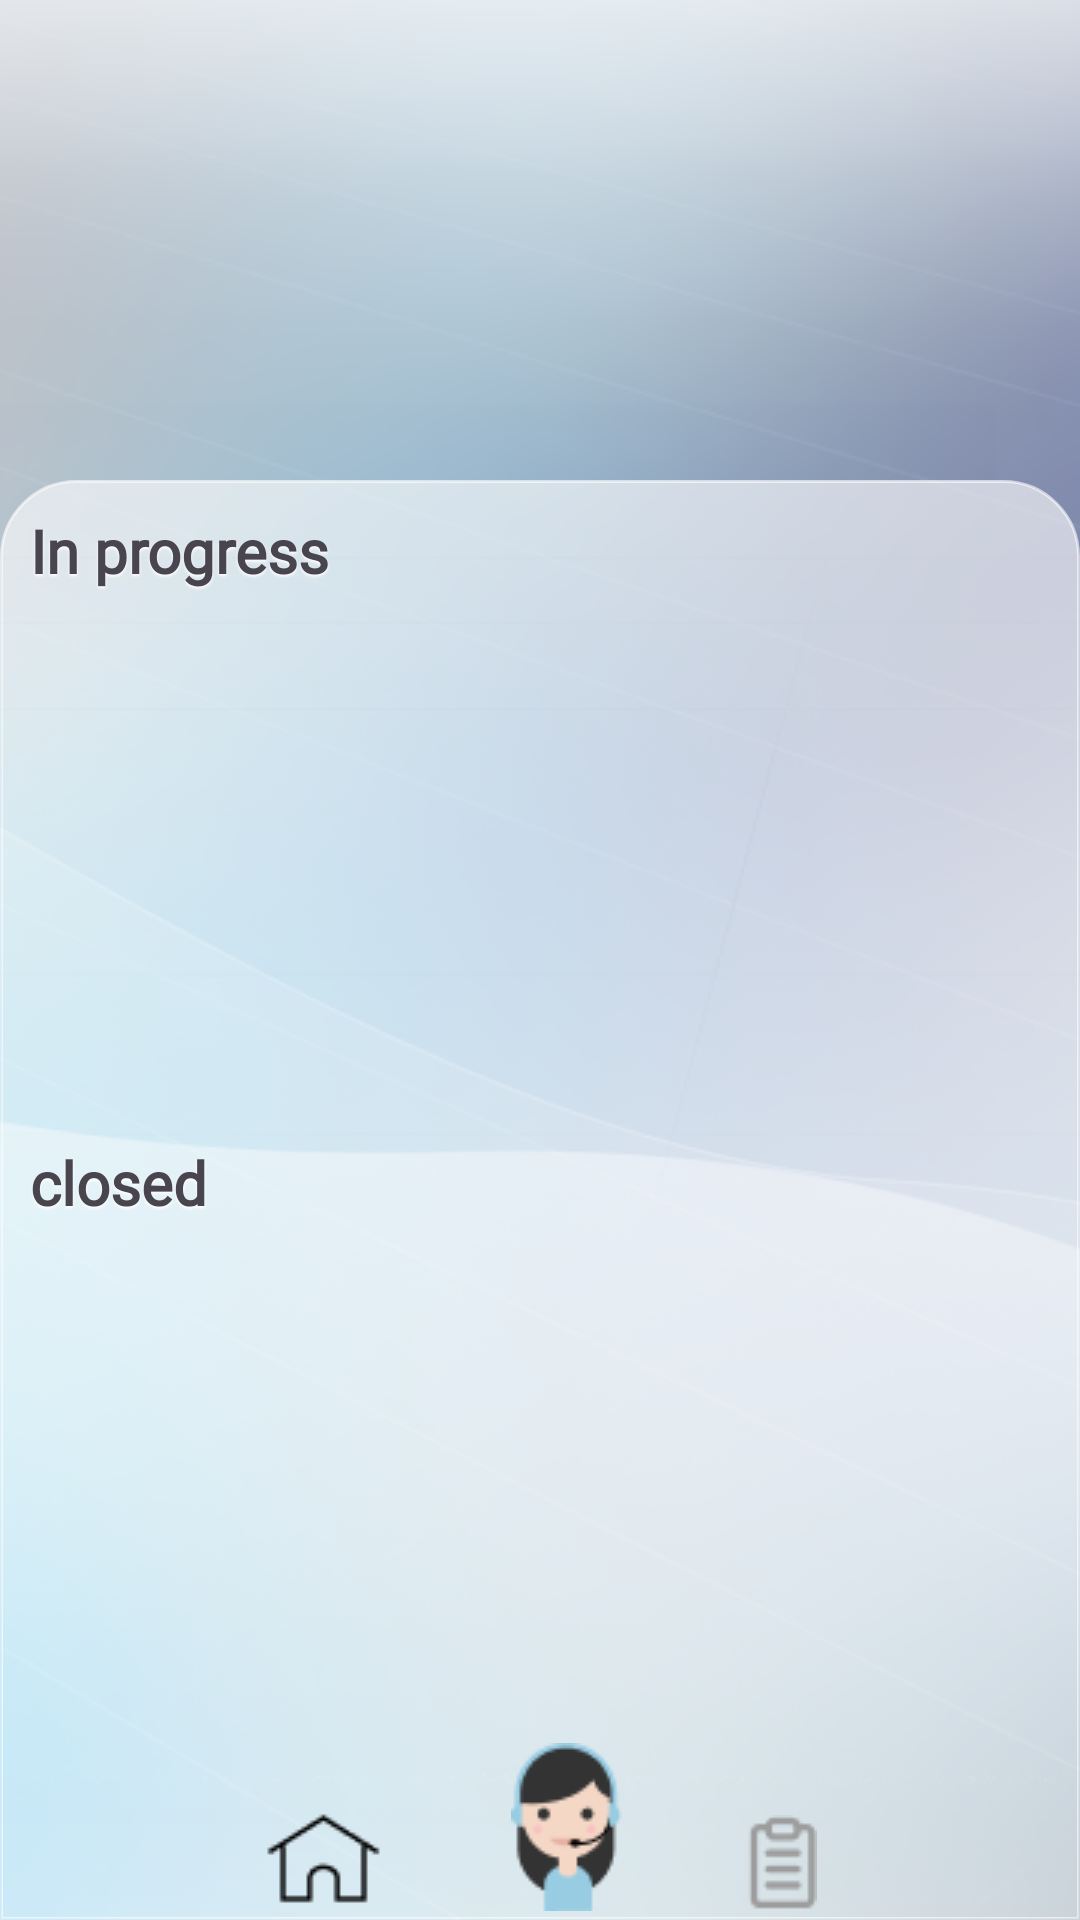

Icons on this 1080×1920 Android screen, each with the point to tap as point (x, y):
btnhome: point (323, 1858)
listbtngrey: point (783, 1863)
